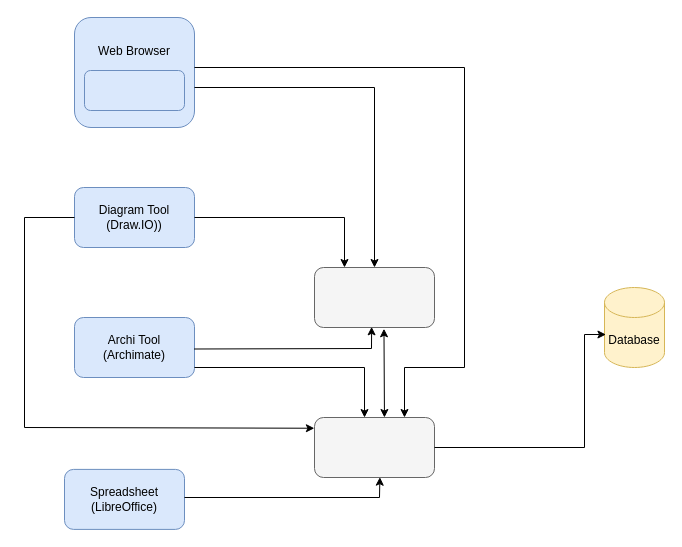
The diagram is 682 pixels wide and 547 high, and some of its shapes have lost their labels. Here are the shapes that lost their labels. From the top down, the centre of each, then its label:
the point at 134,90: Reports (SuperSet)
the point at 374,297: Document Repository (TBD)
the point at 374,447: API Server (Python / Flask)
